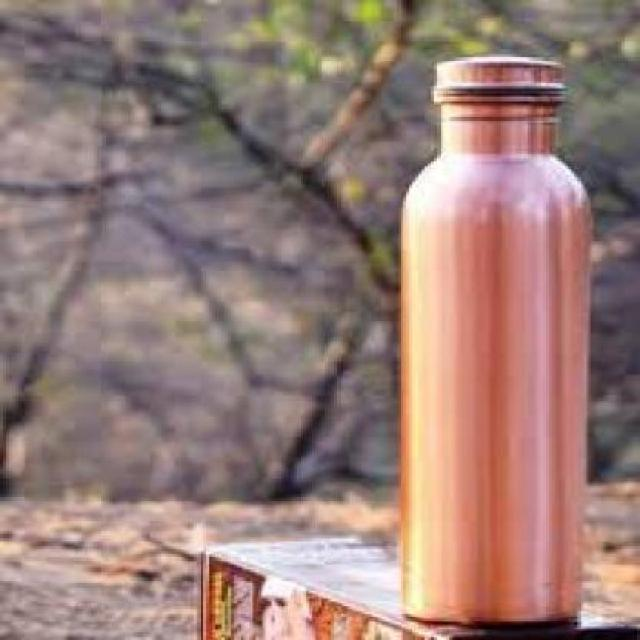Drinking: (371, 27, 637, 638)
